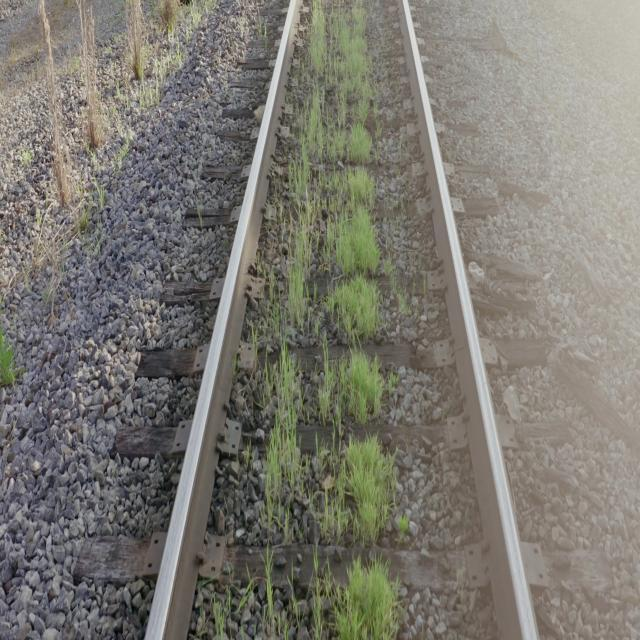Plant: (288, 0, 386, 427), (309, 438, 395, 544), (264, 342, 302, 540), (311, 558, 399, 638), (261, 553, 301, 638), (212, 591, 234, 638), (269, 287, 285, 338)
